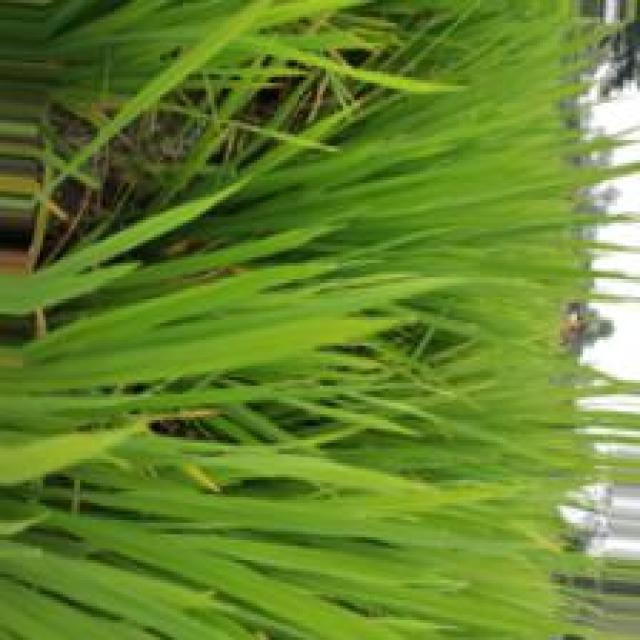HealthyLeaf: (96, 520, 271, 606), (85, 326, 289, 383), (141, 494, 310, 528)
